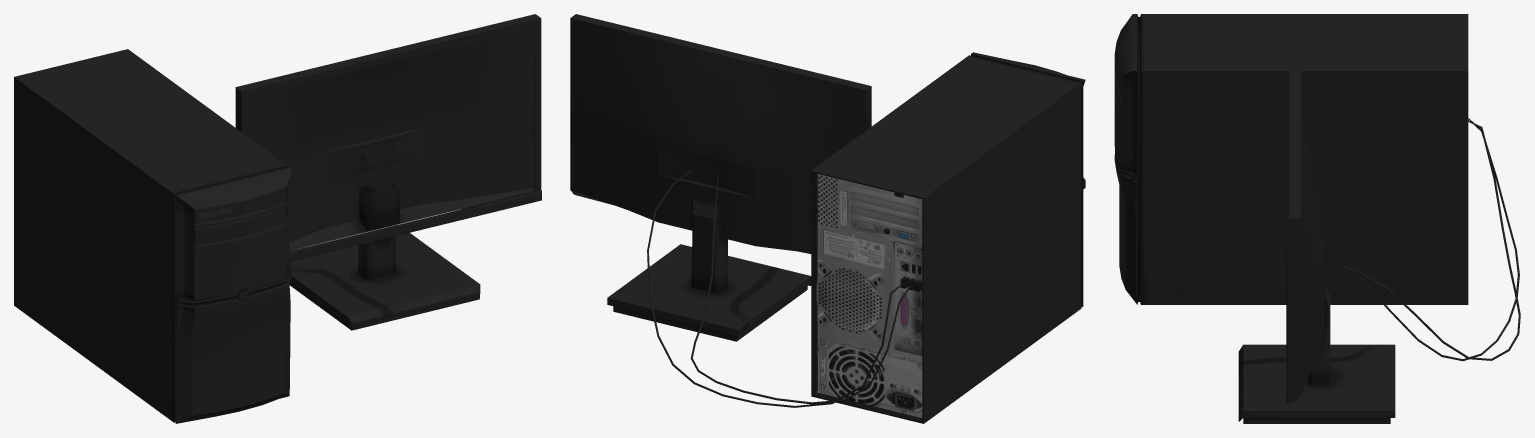
The model's file is pcv2.obj.
3 renders of one model, left to right at view 1: azimuth 30°, elevation 25°; view 2: azimuth 150°, elevation 25°; view 3: azimuth 270°, elevation 25°, orthographic. The views are drawn at different scales.
Visible parts, largest first — view 1: Cube.001; view 2: Cube.001; view 3: Cube.001.
Part boxes in pixels (x1,y1,x2,y2): Cube.001: [14, 14, 541, 423]; Cube.001: [570, 14, 1085, 423]; Cube.001: [1114, 14, 1520, 423].
Size of the model in its own units: 111 by 58.91 by 86.94.
